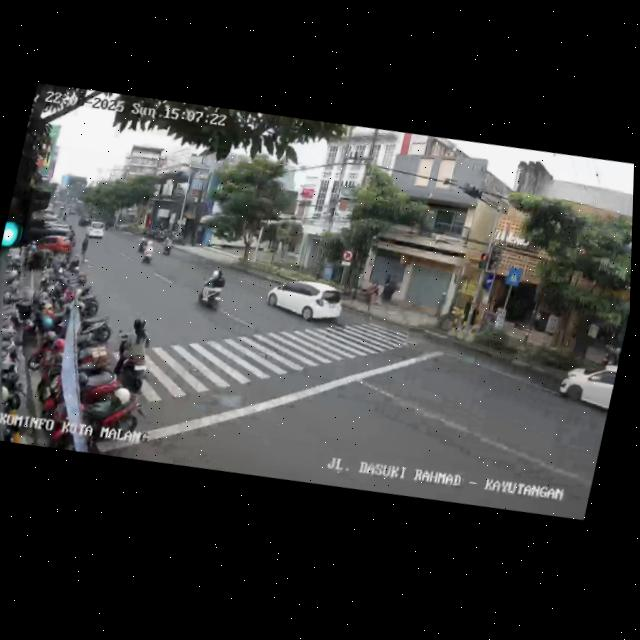car: (263, 269, 346, 332), (551, 351, 618, 426), (30, 214, 78, 262), (85, 218, 111, 241)
motorcycle: (105, 307, 162, 398), (194, 264, 231, 314), (138, 235, 160, 270), (162, 233, 176, 257)
person: (457, 292, 479, 333), (75, 236, 95, 266), (432, 288, 450, 320)
